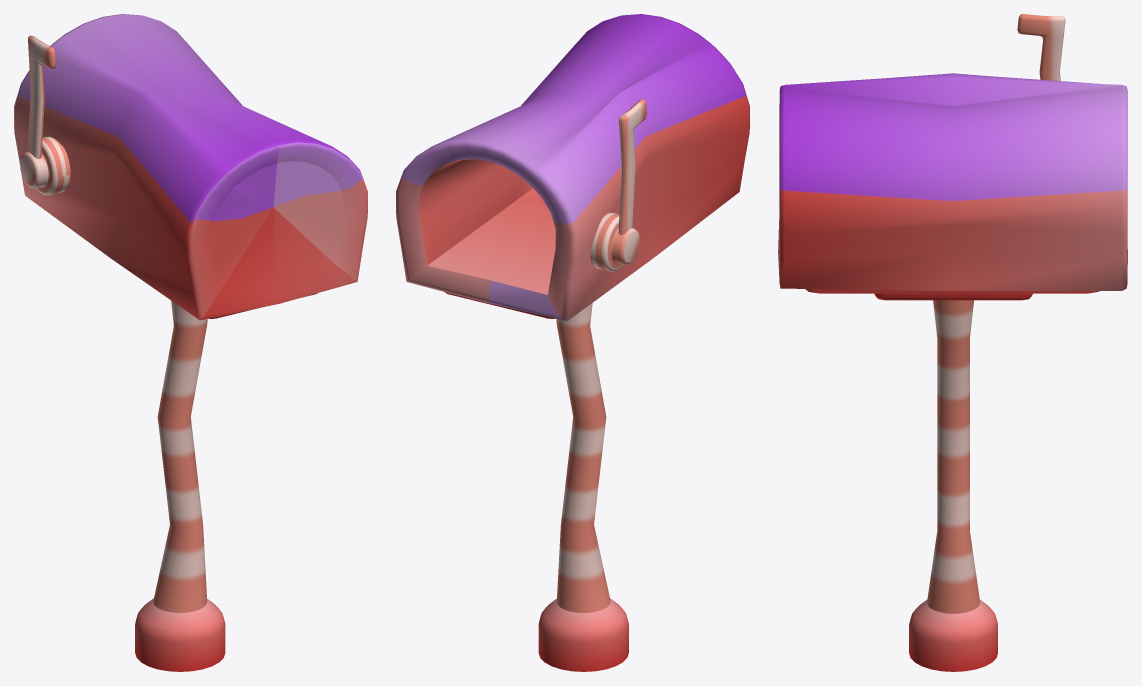
File: MailboxA_red.fbx
The picture shows the model from 3 angles, left to right: view 1: azimuth 30°, elevation 25°; view 2: azimuth 150°, elevation 25°; view 3: azimuth 270°, elevation 25°; orthographic projection.
Parts seen in each view (by area): view 1: MailboxA_box.001, MailboxA_stand.001, MailboxA_thingie.001; view 2: MailboxA_box.001, MailboxA_stand.001, MailboxA_thingie.001; view 3: MailboxA_box.001, MailboxA_stand.001, MailboxA_thingie.001.
Part boxes in pixels (x1=…): MailboxA_box.001: x1=14, y1=14, x2=367, y2=320; MailboxA_stand.001: x1=135, y1=300, x2=225, y2=671; MailboxA_thingie.001: x1=20, y1=35, x2=70, y2=195; MailboxA_box.001: x1=396, y1=14, x2=749, y2=320; MailboxA_stand.001: x1=538, y1=303, x2=628, y2=671; MailboxA_thingie.001: x1=590, y1=99, x2=646, y2=271; MailboxA_box.001: x1=778, y1=73, x2=1127, y2=300; MailboxA_stand.001: x1=909, y1=300, x2=997, y2=671; MailboxA_thingie.001: x1=1017, y1=14, x2=1065, y2=80.
Size of the model in its own units: 107 by 307 by 164.
